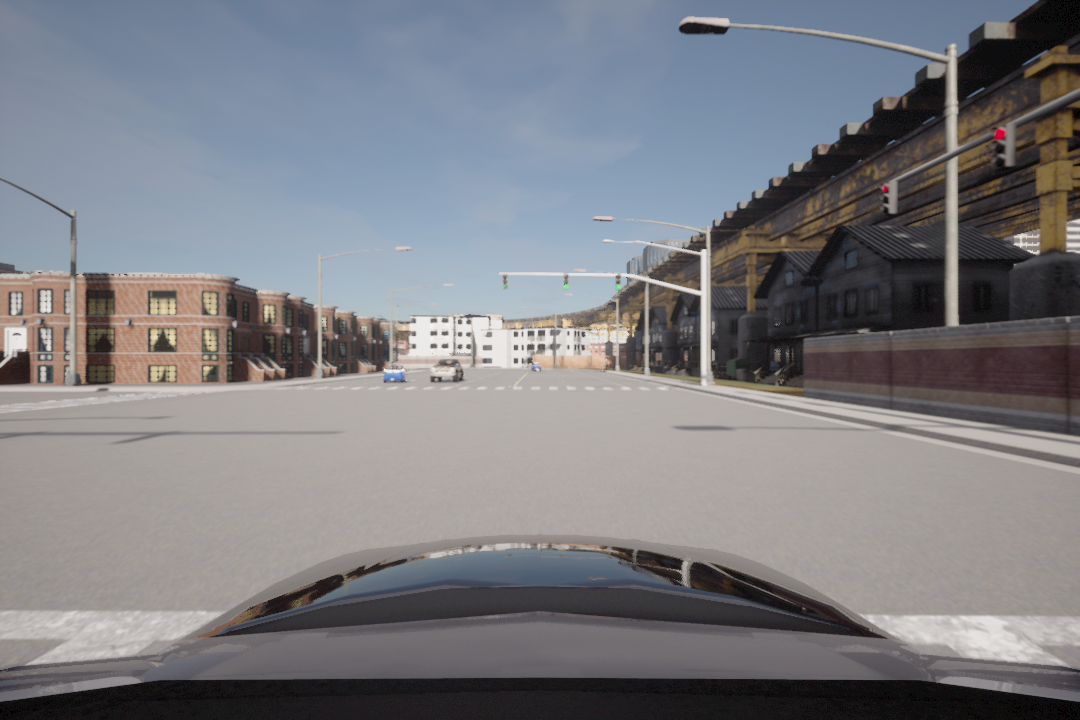TrafficLight: (991, 120, 1021, 169), (879, 181, 898, 217), (561, 271, 571, 291), (614, 274, 622, 294), (501, 272, 507, 291)
walkside: (278, 382, 686, 394)
